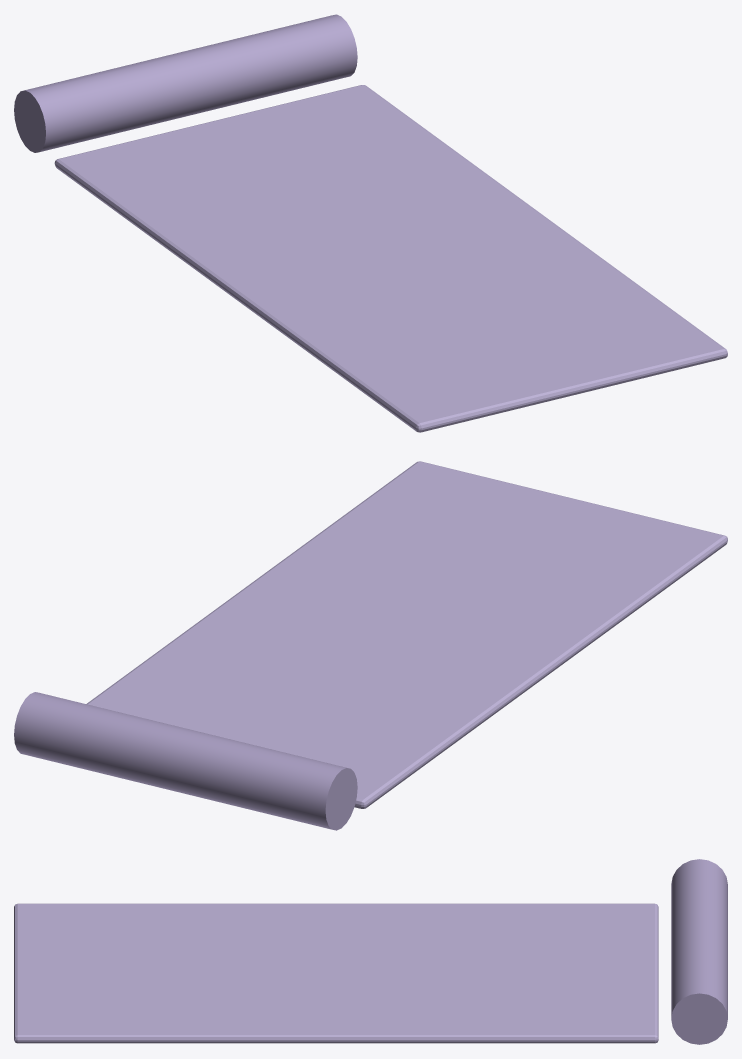
The model's file is yoga_mat.glb.
3 renders of one model, top to bottom at view 1: azimuth 30°, elevation 25°; view 2: azimuth 150°, elevation 25°; view 3: azimuth 270°, elevation 25°, orthographic. The views are drawn at different scales.
Parts seen in each view (by area): view 1: ym_mat, ym_roll; view 2: ym_mat, ym_roll; view 3: ym_mat, ym_roll.
Part boxes in pixels (x1,y1,x2,y2): ym_mat: (54,85,727,432); ym_roll: (14,14,357,152); ym_mat: (86,461,727,808); ym_roll: (14,692,357,830); ym_mat: (14,903,658,1043); ym_roll: (671,859,727,1044).
Size of the model in its own units: 0.7 by 0.125 by 1.57.
